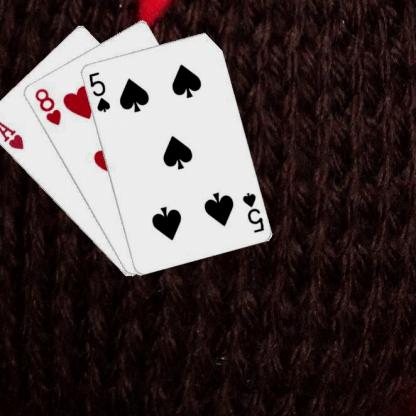5S: (240, 189, 266, 234), (86, 69, 112, 113)
8H: (32, 85, 62, 127)
AH: (0, 117, 25, 151)
